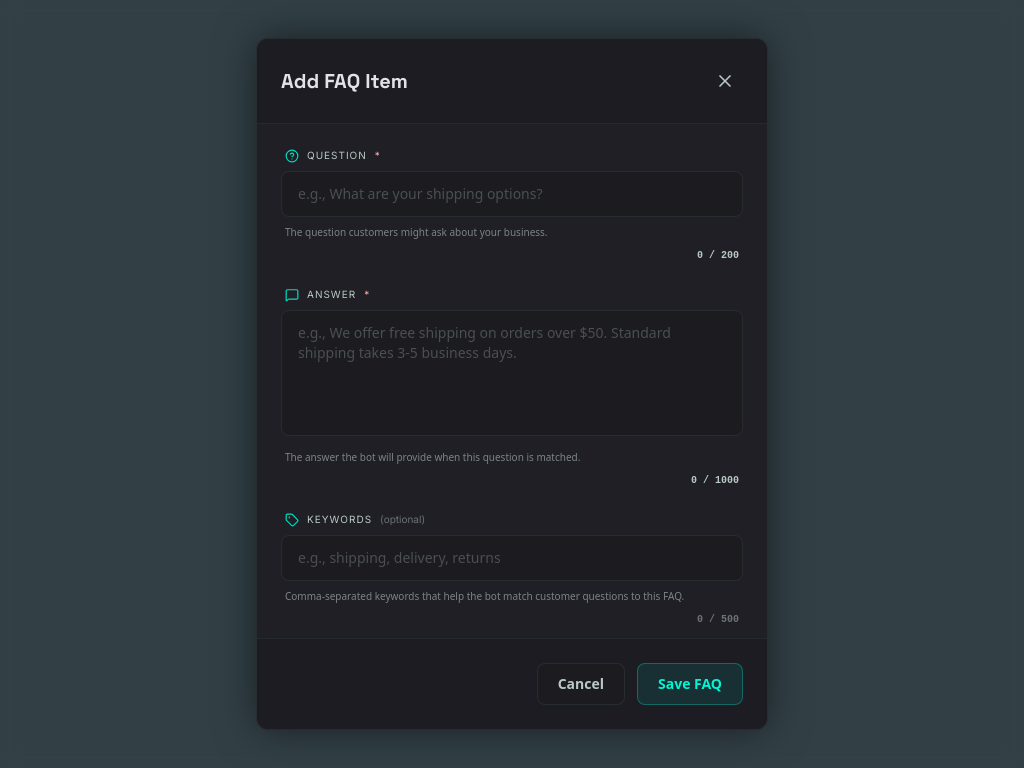
FaqForm › Validation › should show error when question is empty on submit
Click the button "Save FAQ" at (690, 684), box [637, 663, 743, 705]
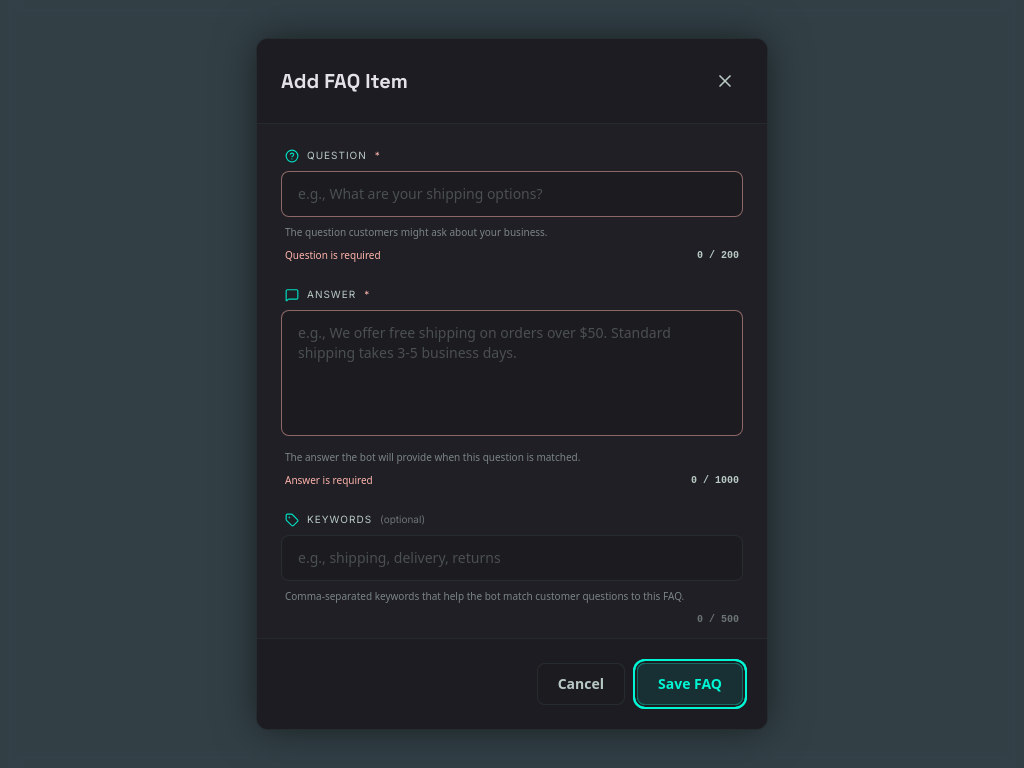
Now the text "Question is required" is shown, box [285, 248, 381, 263]
